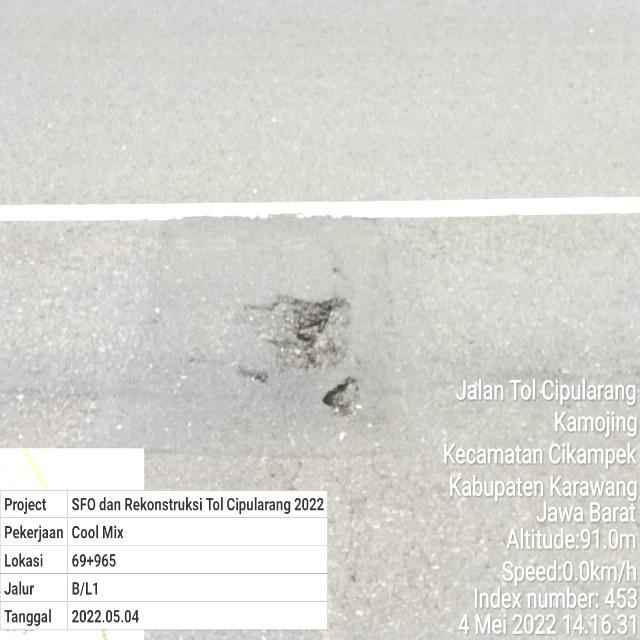Buraco: (240, 293, 356, 376), (320, 374, 366, 421)
